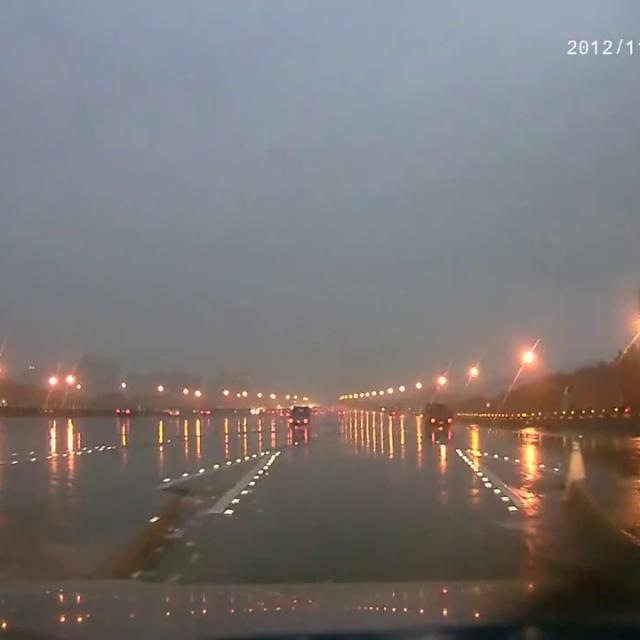Car: (113, 404, 135, 417), (167, 409, 181, 418), (196, 407, 211, 415)
